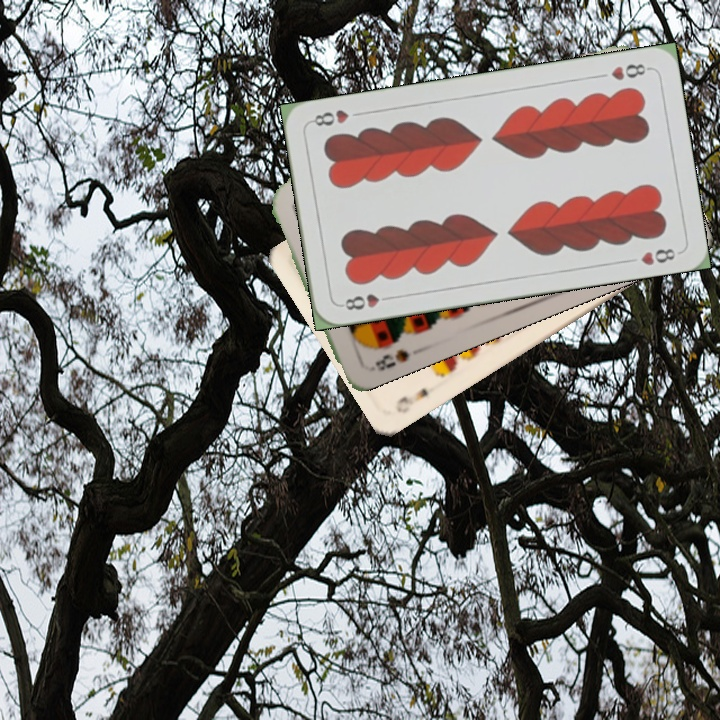E9: (391, 384, 431, 416)
H8: (337, 289, 395, 313), (607, 59, 653, 83)
S8: (371, 345, 412, 374)
